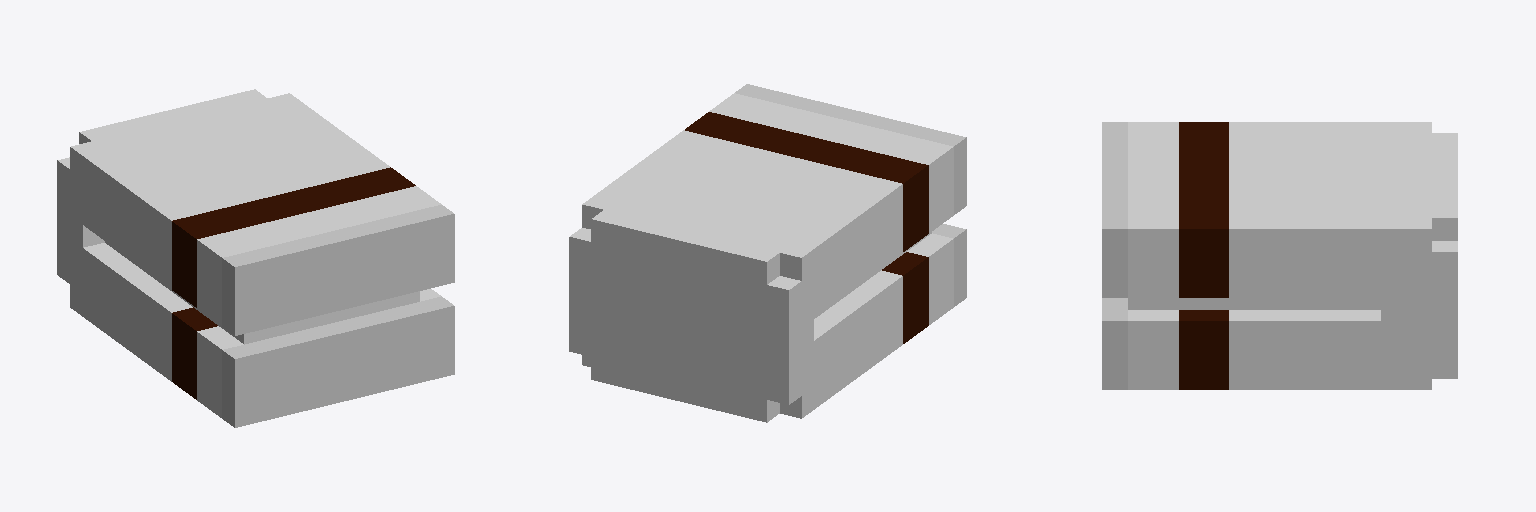
3 renders of one model, left to right at view 1: azimuth 30°, elevation 25°; view 2: azimuth 150°, elevation 25°; view 3: azimuth 270°, elevation 25°, orthographic.
Visible parts, largest first — view 1: Env_Obj_Clutter_SingleTowelClean; view 2: Env_Obj_Clutter_SingleTowelClean; view 3: Env_Obj_Clutter_SingleTowelClean.
Part boxes in pixels (left/top/right/bottom): Env_Obj_Clutter_SingleTowelClean: left=57, top=89, right=454, bottom=427; Env_Obj_Clutter_SingleTowelClean: left=569, top=84, right=966, bottom=422; Env_Obj_Clutter_SingleTowelClean: left=1102, top=122, right=1457, bottom=389.
Bounding box in the file's own units: 1 × 0.7 × 1.4.
Materials: 1 (1 with a texture image).